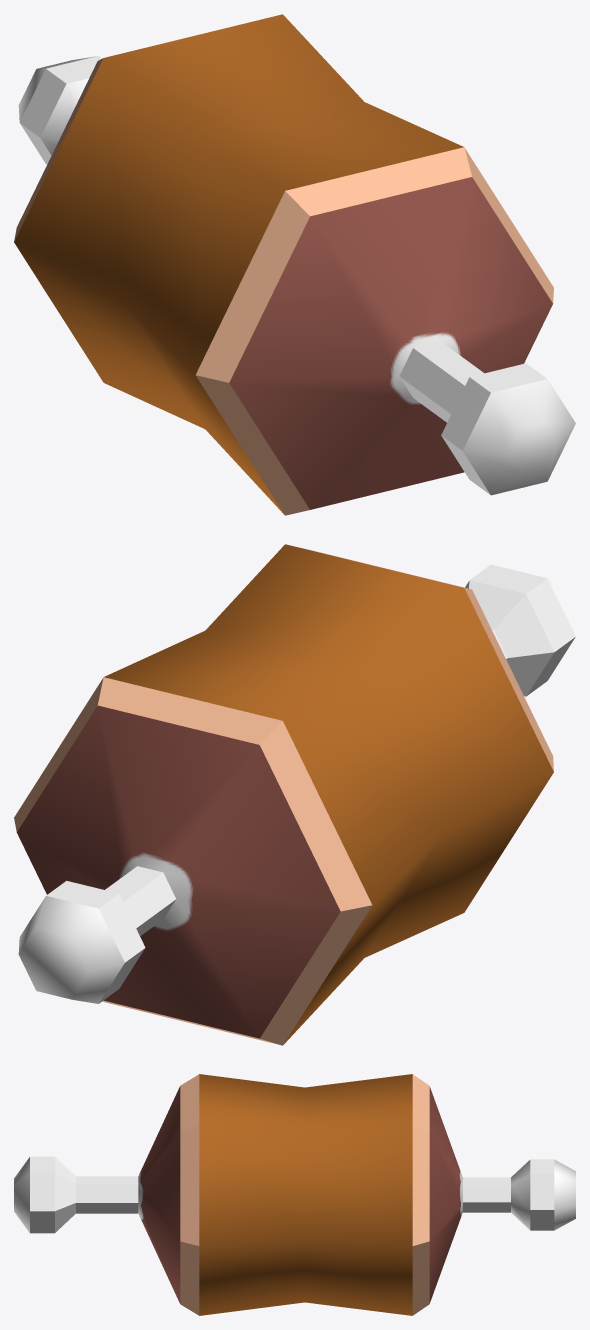
Rendered from Unwrapped_meat3.fbx.
3 renders of one model, top to bottom at view 1: azimuth 30°, elevation 25°; view 2: azimuth 150°, elevation 25°; view 3: azimuth 270°, elevation 25°, orthographic. The views are drawn at different scales.
Parts seen in each view (by area): view 1: Cylinder020; view 2: Cylinder020; view 3: Cylinder020.
Boxes of the visible parts, <box> form: Cylinder020: <box>14,14,575,515</box>; Cylinder020: <box>14,544,575,1045</box>; Cylinder020: <box>14,1074,575,1315</box>.
Bounding box in the file's own units: 18.35 × 15.89 × 42.46.
